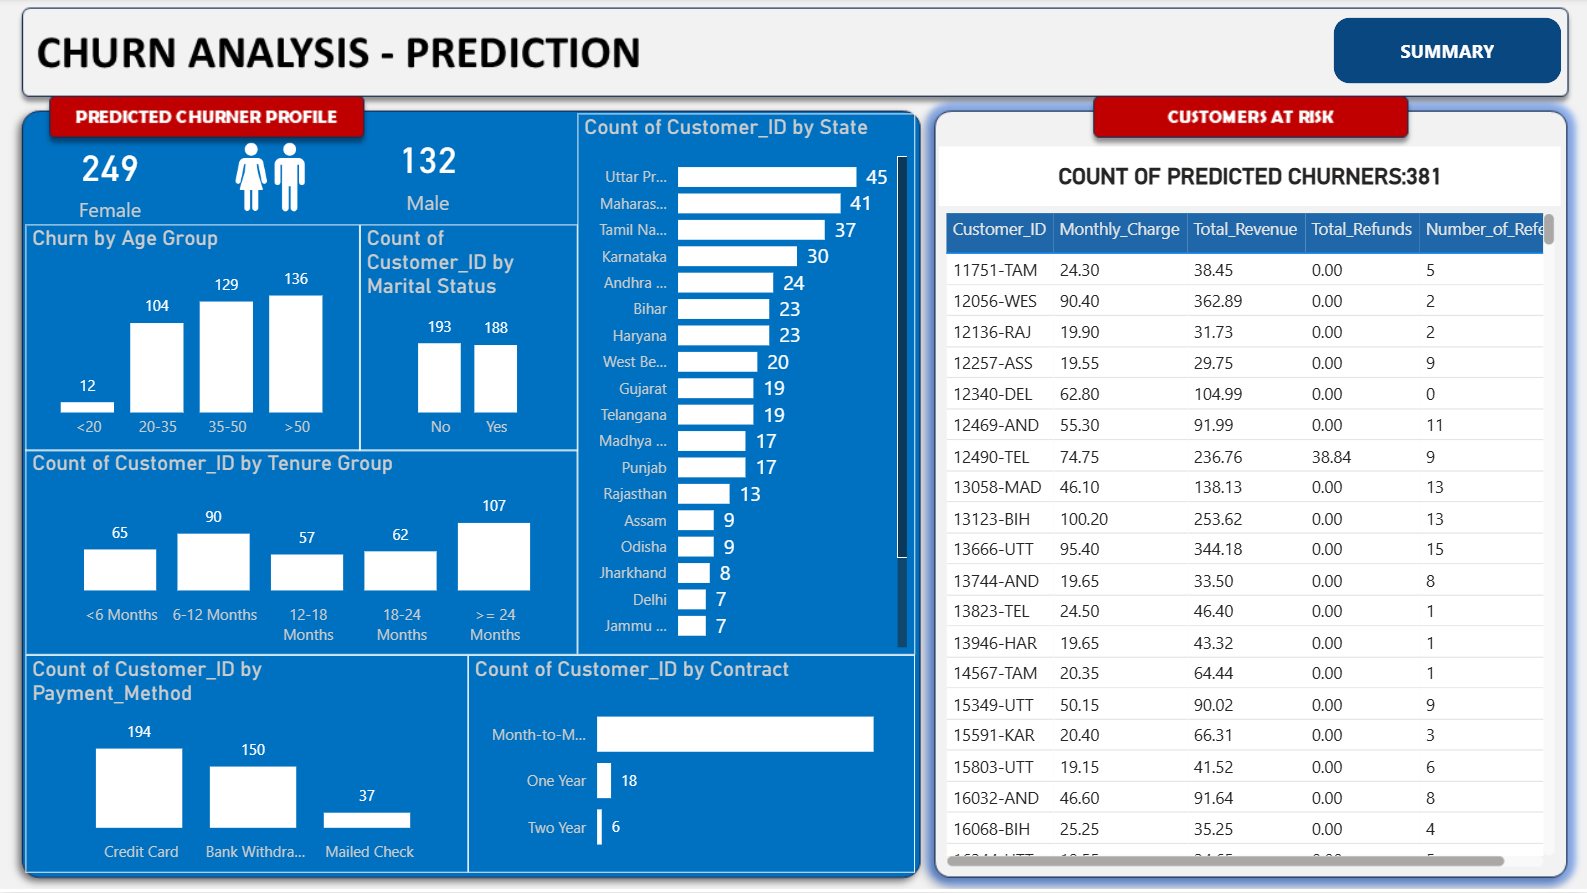

The dashboard page shown, as its layout file describes it:
{"tool":"powerbi","page":{"name":"Churn Prediction","canvas":[1280,720],"ordinal":2},"visuals":[{"type":"card","fields":{"Values":["tbl_measures.Title Predicted Churner"]},"box":[756.4,119.7,501,48.1],"z":0},{"type":"tableEx","fields":{"Values":["churn_predictions.Customer_ID","churn_predictions.Monthly_Charge","churn_predictions.Total_Revenue","churn_predictions.Total_Refunds","churn_predictions.Number_of_Referrals"]},"box":[756.4,167.8,501,536.8],"z":1000},{"type":"card","fields":{"Values":["tbl_measures.Count of Predicted Churn"]},"box":[20.5,108.7,135.3,73.7],"z":2000},{"type":"card","fields":{"Values":["tbl_measures.Count of Predicted Churn"]},"box":[274.3,100.3,140.2,78.5],"z":3000},{"type":"clusteredColumnChart","title":"Churn by Age Group","fields":{"Category":["mapping_age_group.Age Group"],"Y":["CountNonNull(churn_predictions.Customer_ID)"]},"box":[20.5,182.5,269.5,182.5],"z":4000},{"type":"clusteredColumnChart","fields":{"Category":["churn_predictions.Married"],"Y":["CountNonNull(churn_predictions.Customer_ID)"]},"box":[290,182.5,175.2,182.5],"z":5000},{"type":"clusteredColumnChart","fields":{"Y":["CountNonNull(churn_predictions.Customer_ID)"],"Category":["mapping_tenure_group.Tenure Group "]},"box":[20.5,363.7,444.7,165.5],"z":6000},{"type":"clusteredBarChart","fields":{"Category":["churn_predictions.Contract"],"Y":["CountNonNull(churn_predictions.Customer_ID)"]},"box":[377,529.2,360.1,175.2],"z":7000},{"type":"clusteredColumnChart","fields":{"Y":["CountNonNull(churn_predictions.Customer_ID)"],"Category":["churn_predictions.Payment_Method"]},"box":[20.5,529.2,356.5,175.2],"z":8000},{"type":"clusteredBarChart","fields":{"Category":["churn_predictions.State"],"Y":["CountNonNull(churn_predictions.Customer_ID)"]},"box":[465.2,93,271.9,436.2],"z":9000},{"type":"image","box":[175.2,108.7,84.6,70.1],"z":10000},{"type":"shape","box":[1074.2,15.7,183.7,53.2],"z":11000}]}

Visuals, with their boxes in screenshot pixels (x1, y1, x2, y2), scaled from the page's 1280x720 canvas onto the 1587x893 screenshot:
card - tbl_measures.Title Predicted Churner: (938,148,1559,208)
tableEx - churn_predictions.Customer_ID x churn_predictions.Monthly_Charge: (938,208,1559,874)
card - tbl_measures.Count of Predicted Churn: (25,135,193,226)
card - tbl_measures.Count of Predicted Churn: (340,124,514,222)
"Churn by Age Group" clusteredColumnChart: (25,226,360,453)
clusteredColumnChart - churn_predictions.Married x CountNonNull(churn_predictions.Customer_ID): (360,226,577,453)
clusteredColumnChart - CountNonNull(churn_predictions.Customer_ID) x mapping_tenure_group.Tenure Group : (25,451,577,656)
clusteredBarChart - churn_predictions.Contract x CountNonNull(churn_predictions.Customer_ID): (467,656,914,874)
clusteredColumnChart - CountNonNull(churn_predictions.Customer_ID) x churn_predictions.Payment_Method: (25,656,467,874)
clusteredBarChart - churn_predictions.State x CountNonNull(churn_predictions.Customer_ID): (577,115,914,656)
image: (217,135,322,222)
shape: (1332,19,1560,85)
